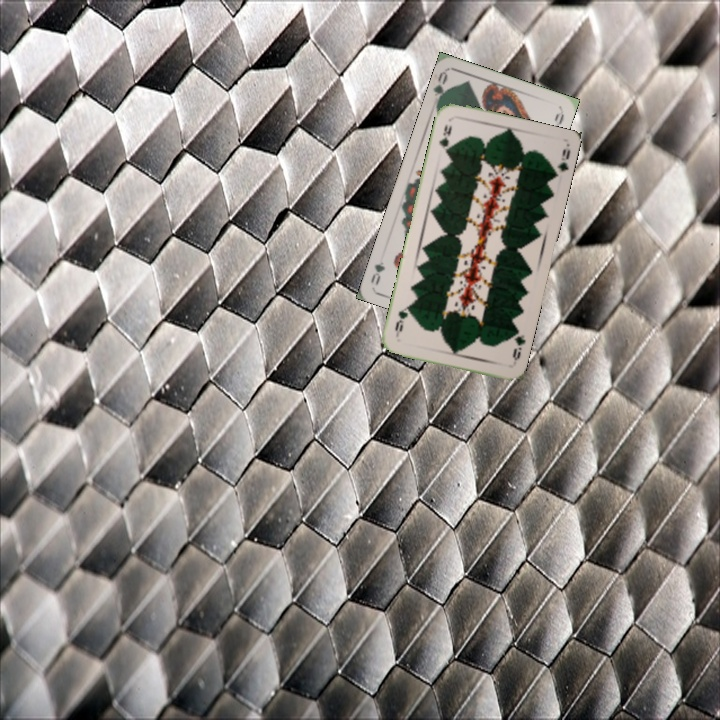G9: (508, 326, 528, 363), (435, 120, 455, 156)
GO: (430, 68, 451, 109)
